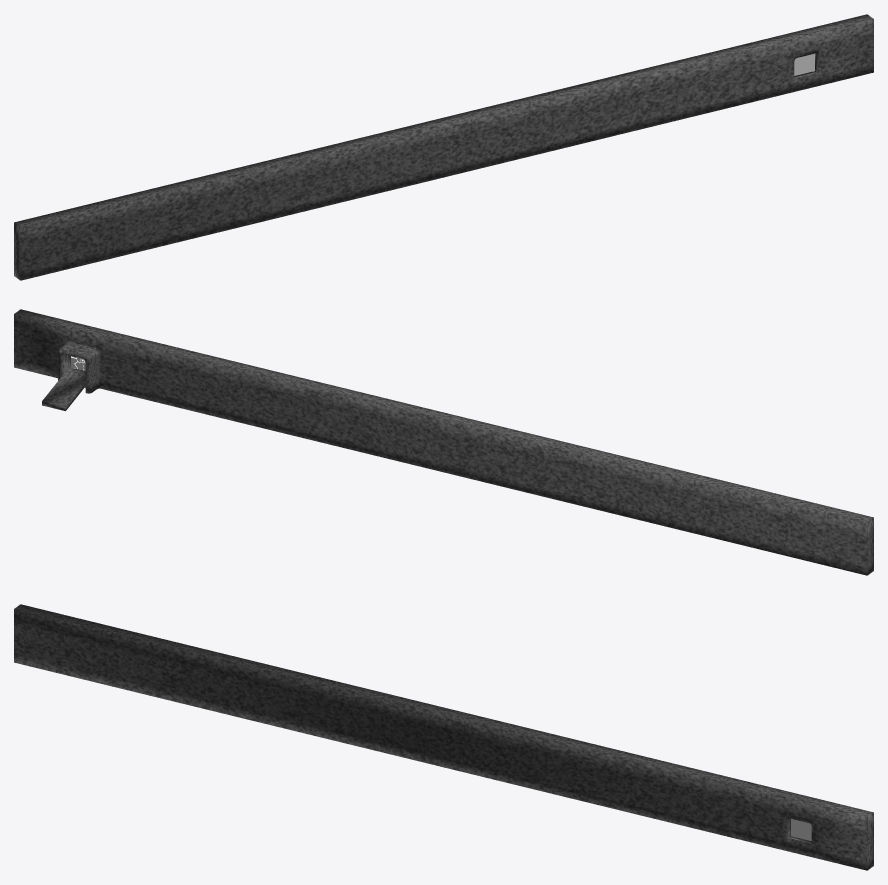
Rendered from bunkerDoor.fbx.
3 renders of one model, top to bottom at view 1: azimuth 30°, elevation 25°; view 2: azimuth 150°, elevation 25°; view 3: azimuth 330°, elevation 25°, orthographic.
Visible parts, largest first — view 1: Cube.011; view 2: Cube.011; view 3: Cube.011.
Boxes of the visible parts, x1=… form: Cube.011: x1=14, y1=14, x2=873, y2=280; Cube.011: x1=14, y1=309, x2=873, y2=575; Cube.011: x1=14, y1=604, x2=873, y2=870.
Size of the model in its own units: 14816 by 952 by 1037.
